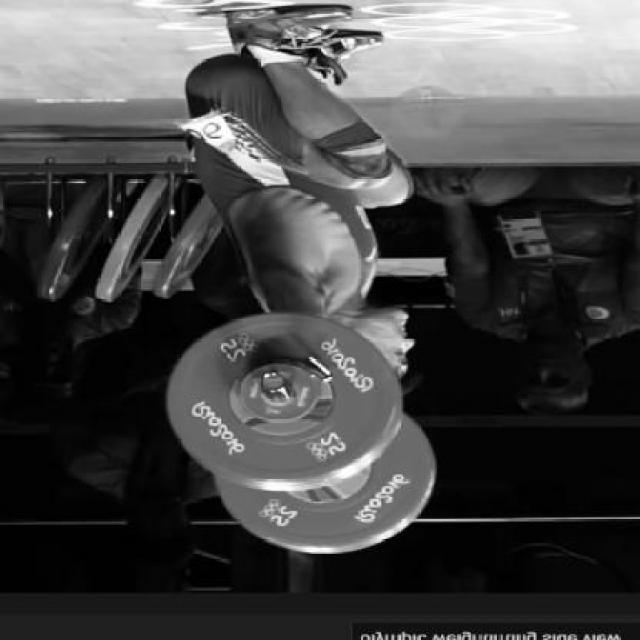Barbell: (253, 366, 293, 397)
